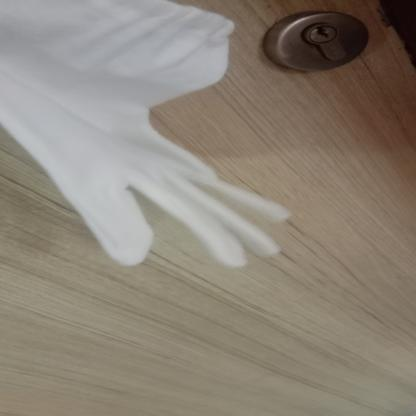gloved_hand: (5, 1, 295, 267)
